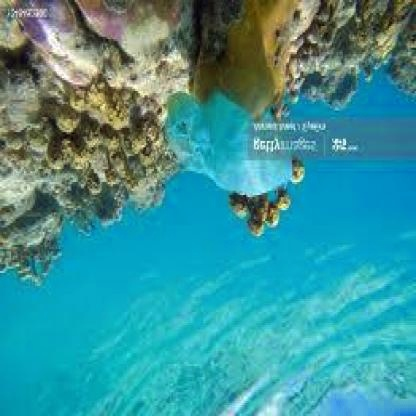pbag: (166, 89, 294, 197)
